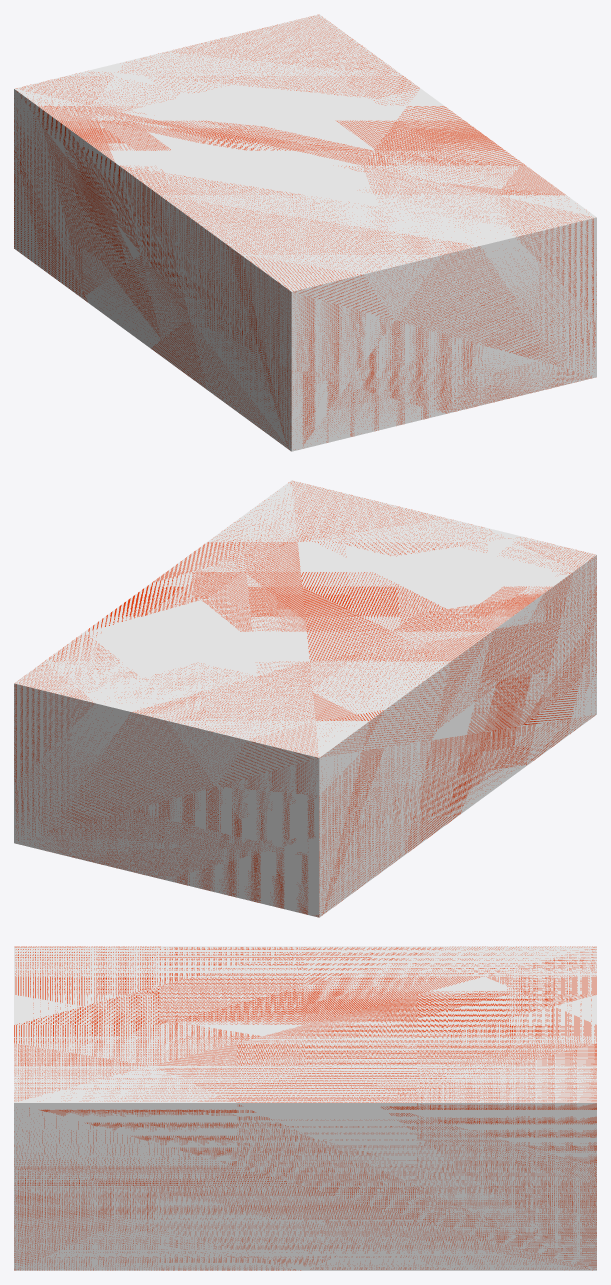
The model's file is small-car.dae.
3 views of the same model, one above another, from view 1: azimuth 30°, elevation 25°; view 2: azimuth 150°, elevation 25°; view 3: azimuth 270°, elevation 25° (orthographic). The views are drawn at different scales.
Parts seen in each view (by area): view 1: instance_0; view 2: instance_0; view 3: instance_0.
Part boxes in pixels (<box>): instance_0: <box>14,14,596,451</box>; instance_0: <box>14,480,596,917</box>; instance_0: <box>14,946,596,1270</box>.
Bounding box in the file's own units: 0.5328 × 0.8391 × 0.2664.
